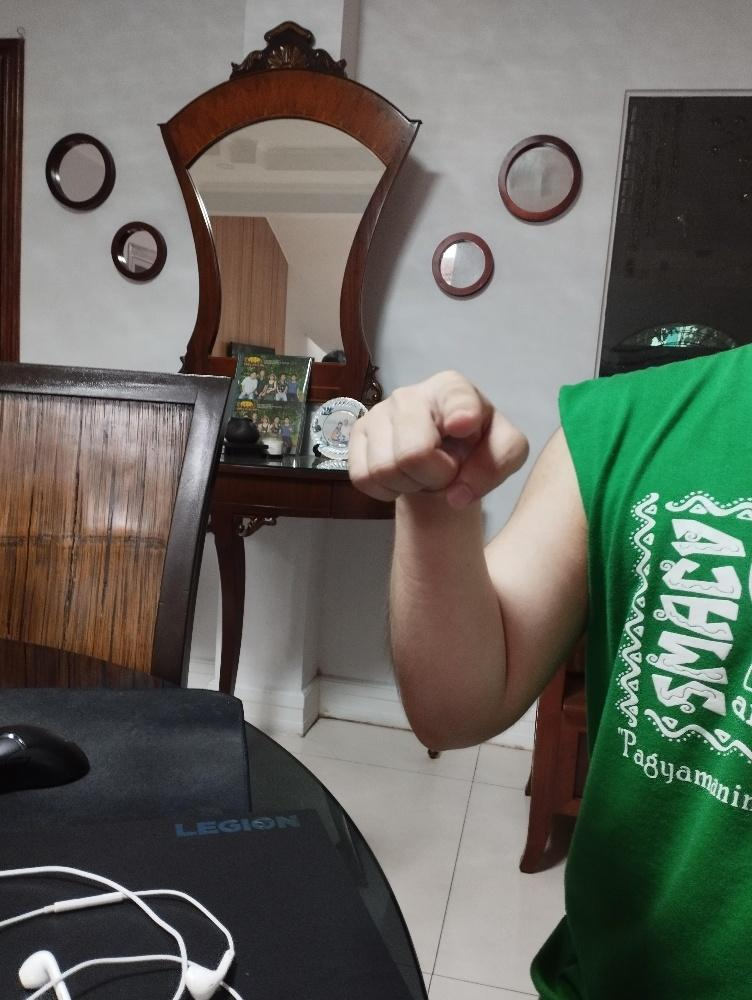z: (344, 365, 533, 513)
